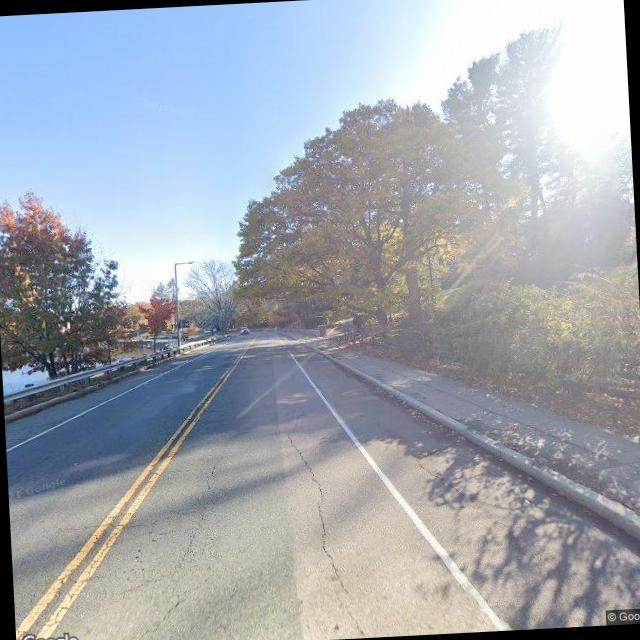pothole: (284, 424, 360, 636), (171, 458, 223, 568), (412, 454, 467, 502)
